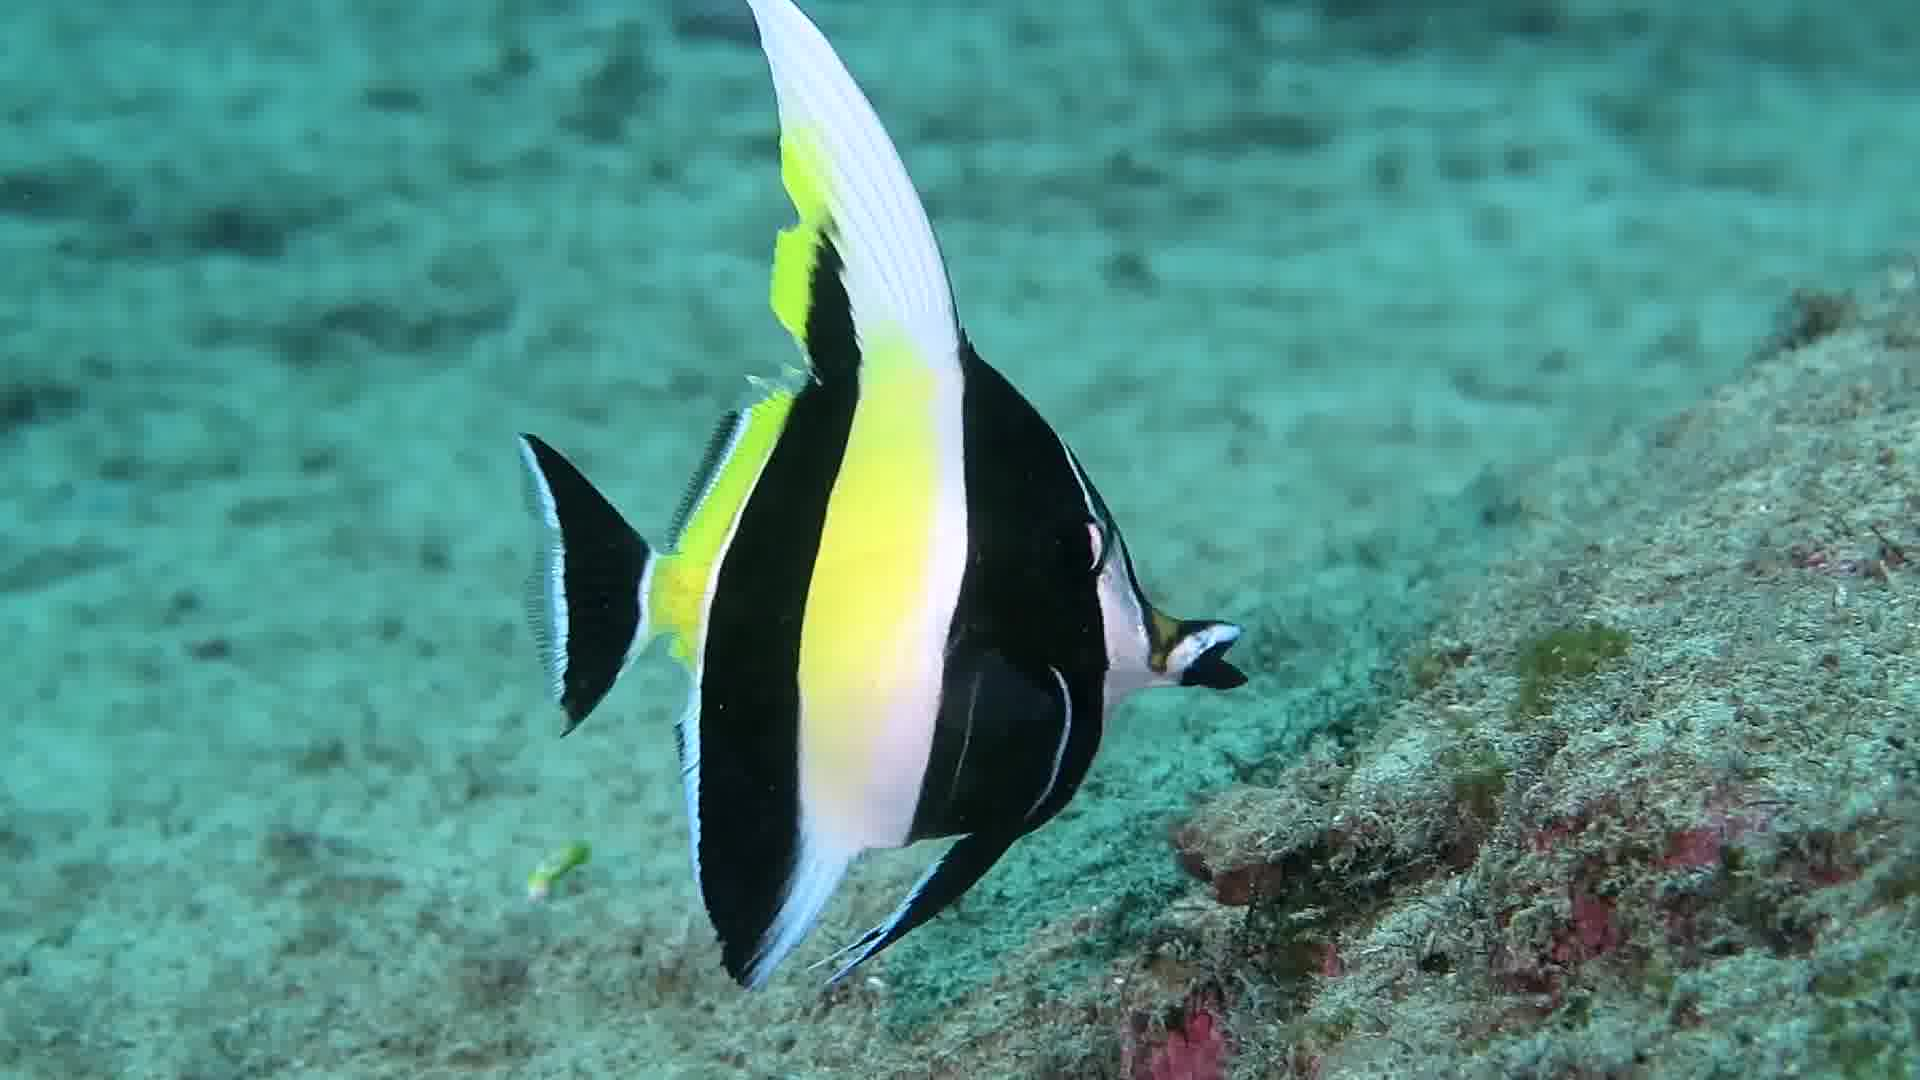Zanclus cornutus: (524, 241, 1255, 1014)
